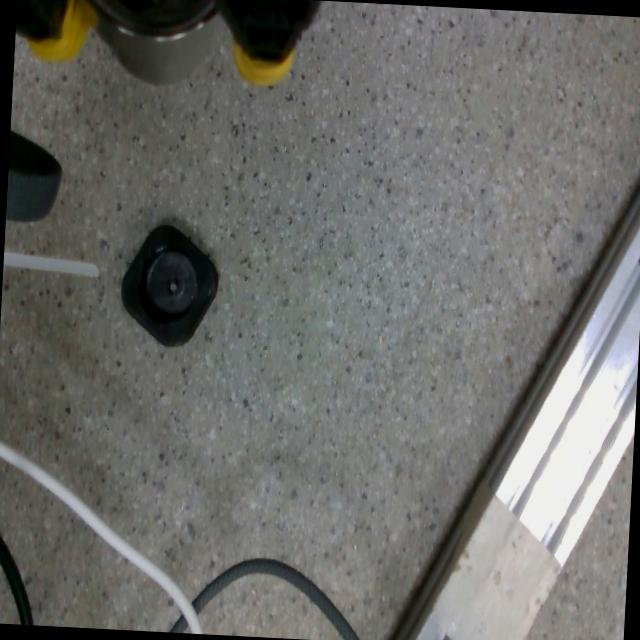cell: (116, 222, 221, 349)
